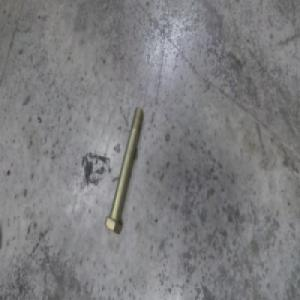Bolt: (105, 114, 144, 241)
